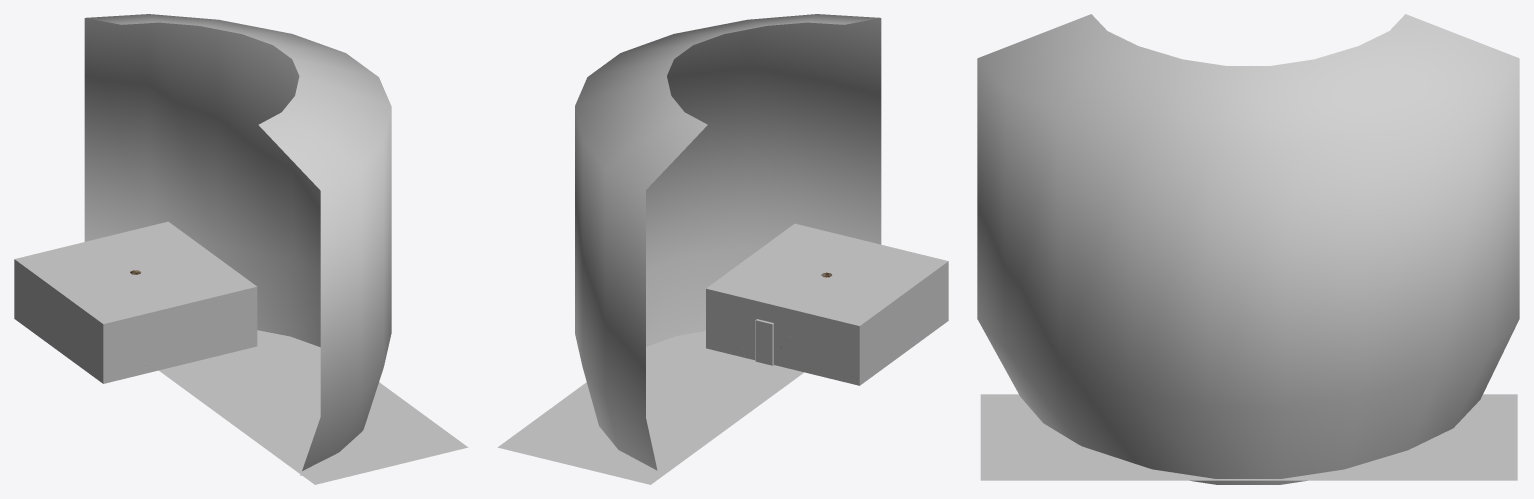
Rendered from VH_DefaultLevel.fbx.
3 views of the same model, side by side, from view 1: azimuth 30°, elevation 25°; view 2: azimuth 150°, elevation 25°; view 3: azimuth 270°, elevation 25° (orthographic). The views are drawn at different scales.
Parts seen in each view (by area): view 1: Background_Card, Ground_Card, Walls, Ceiling; view 2: Background_Card, Ground_Card, Walls, Ceiling, Door; view 3: Background_Card, Ground_Card.
Part boxes in pixels (x1,y1,x2,y2): Background_Card: (84, 14, 391, 475); Ground_Card: (159, 330, 468, 484); Walls: (14, 259, 257, 383); Ceiling: (15, 221, 256, 323); Background_Card: (575, 14, 881, 470); Ground_Card: (497, 331, 803, 484); Walls: (706, 261, 948, 385); Ceiling: (706, 223, 948, 325); Door: (756, 320, 773, 365); Background_Card: (977, 14, 1519, 484); Ground_Card: (980, 394, 1517, 480).
Size of the model in its own units: 1612 by 1709 by 2180.
